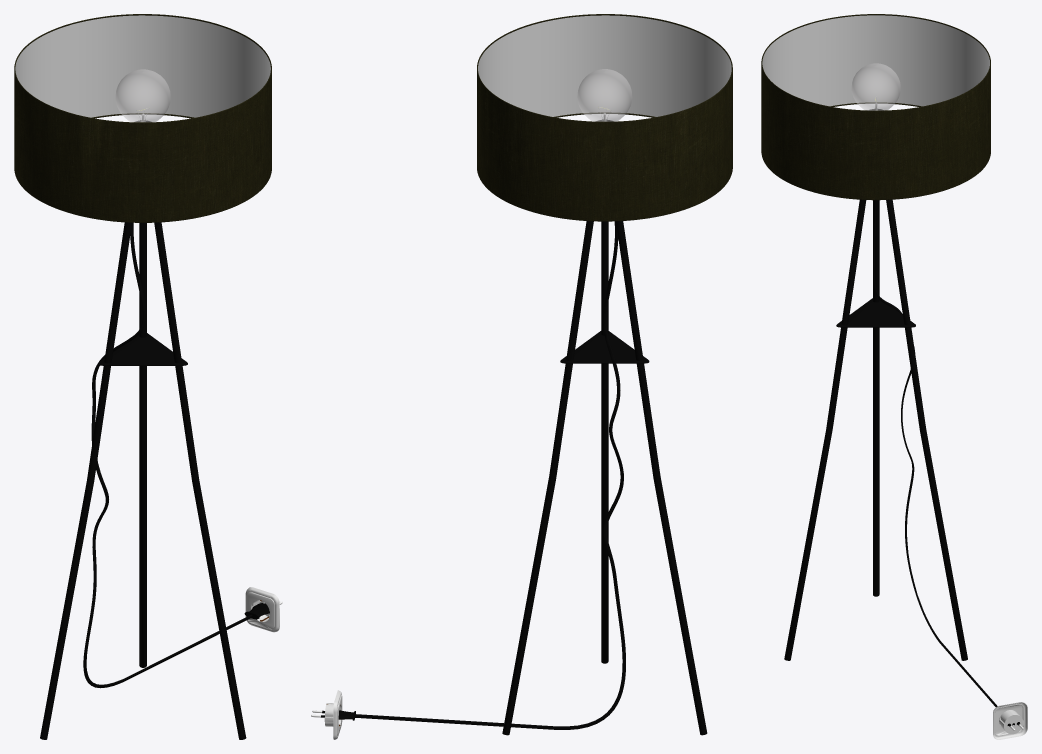
Rendered from floor-lamp-modern-web.glb.
The picture shows the model from 3 angles, left to right: view 1: azimuth 30°, elevation 25°; view 2: azimuth 150°, elevation 25°; view 3: azimuth 270°, elevation 25°; orthographic projection. The views are drawn at different scales.
Parts seen in each view (by area): view 1: Object_4, Object_5, Object_22; view 2: Object_4, Object_5, Object_22; view 3: Object_4, Object_5, Object_22.
Boxes of the visible parts, x1,y1,x2,y2 form: Object_4: [15, 15, 282, 739]; Object_5: [14, 14, 271, 222]; Object_22: [115, 69, 170, 122]; Object_4: [311, 15, 731, 739]; Object_5: [477, 14, 732, 221]; Object_22: [577, 69, 632, 121]; Object_4: [762, 15, 1027, 739]; Object_5: [761, 14, 990, 200]; Object_22: [851, 63, 900, 110].
Size of the model in its own units: 4.03 by 7.78 by 3.18.
Materials: 4 (4 with a texture image).
